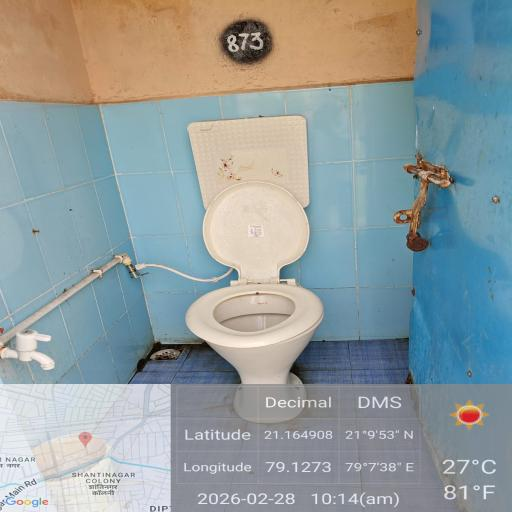clean_floor: (0, 108, 178, 264)
partial_dirty_floor: (4, 0, 512, 93), (236, 89, 389, 238), (325, 243, 468, 383), (111, 322, 208, 377)
partial_dirty_western: (180, 183, 321, 363)
